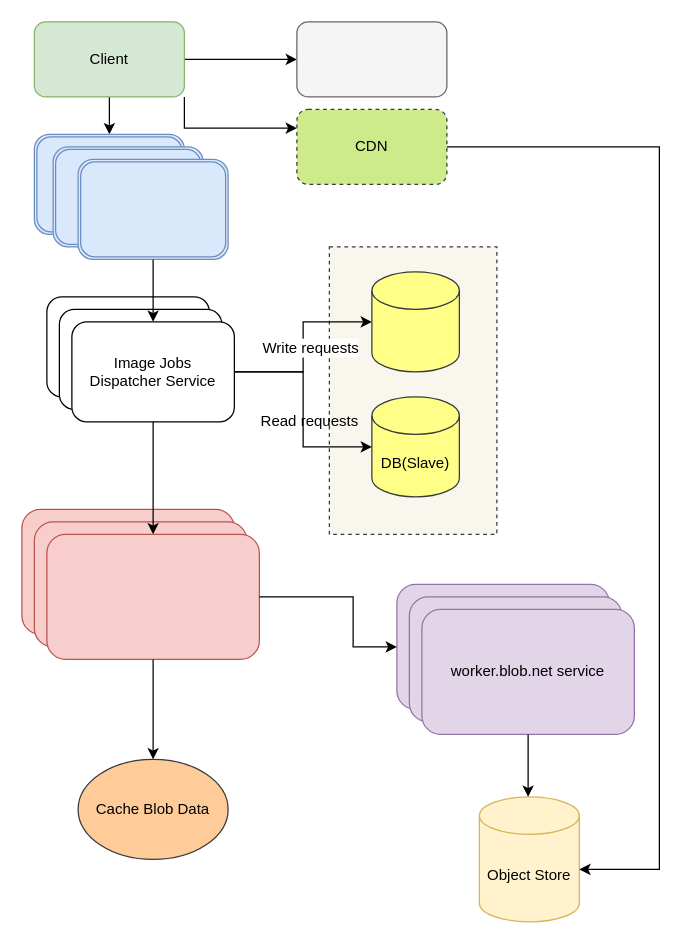
The diagram is 691 pixels wide and 944 high, and some of its shapes have lost their labels. The centre of each missing label's shape, as x and y in pixels:
"DB (Master)" belongs at point (415, 321).
"DNS" belongs at point (371, 59).
"Load Balancer" belongs at point (152, 208).
"worker.cloud.net service" belongs at point (152, 596).
